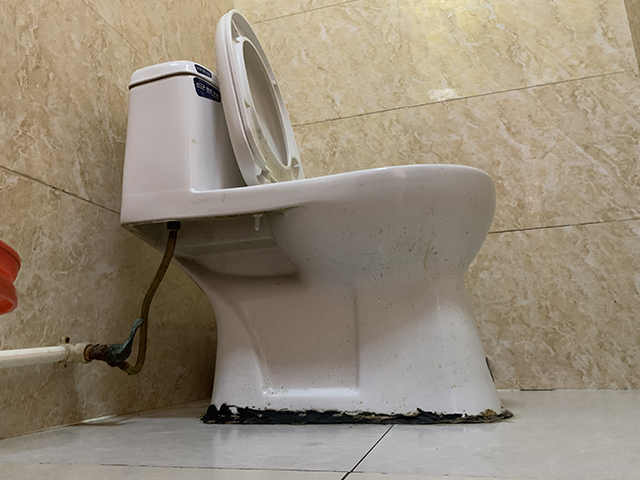closestool: (116, 9, 515, 428)
